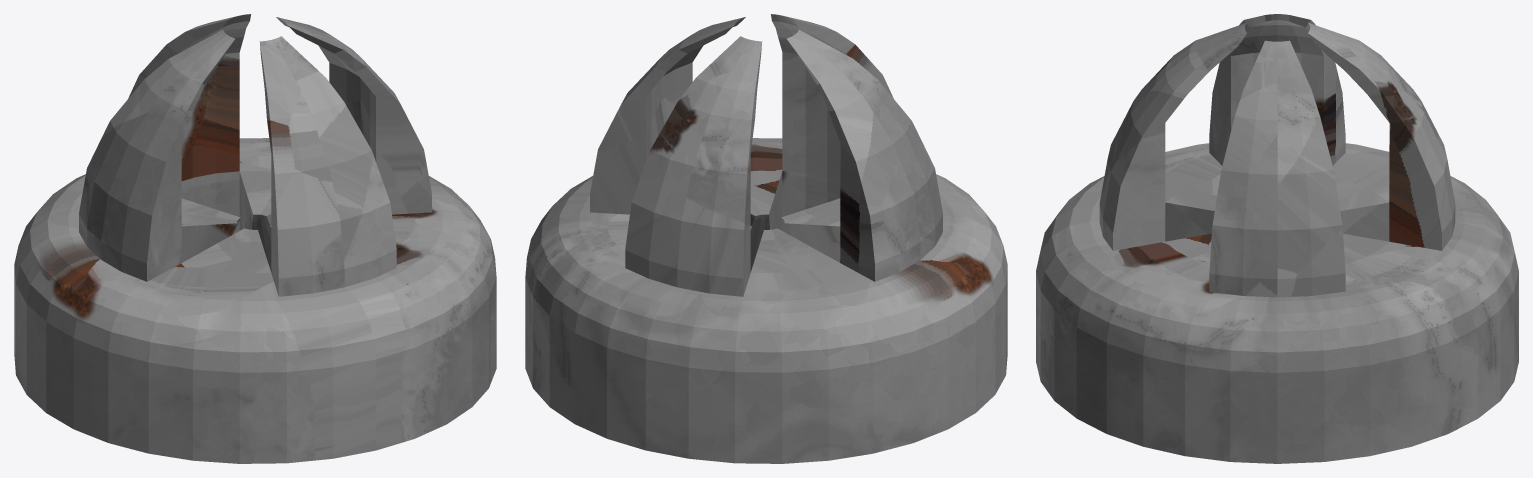
Rendered from EmergencyLightHousing.glb.
The picture shows the model from 3 angles, left to right: view 1: azimuth 30°, elevation 25°; view 2: azimuth 150°, elevation 25°; view 3: azimuth 270°, elevation 25°; orthographic projection.
Parts seen in each view (by area): view 1: Circle; view 2: Circle; view 3: Circle.
Part boxes in pixels (x1=…): Circle: x1=14, y1=14, x2=496, y2=463; Circle: x1=525, y1=14, x2=1007, y2=463; Circle: x1=1036, y1=14, x2=1518, y2=463.
Bounding box in the file's own units: 2 × 1.53 × 2.
1 material, 1 textured.
